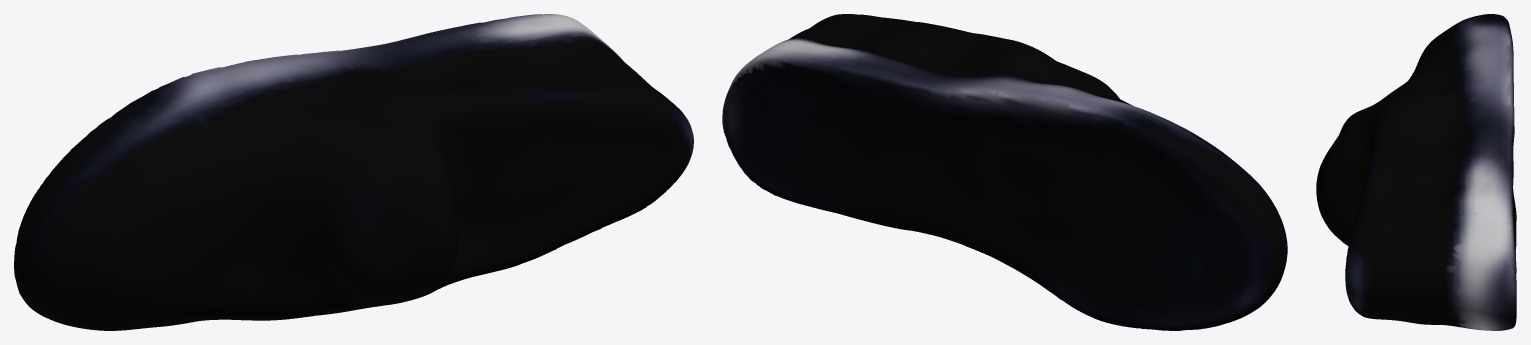
Rendered from shoe.glb.
3 renders of one model, left to right at view 1: azimuth 30°, elevation 25°; view 2: azimuth 150°, elevation 25°; view 3: azimuth 270°, elevation 25°, orthographic. The views are drawn at different scales.
Bounding box in the file's own units: 0.9998 × 0.3685 × 0.342.
